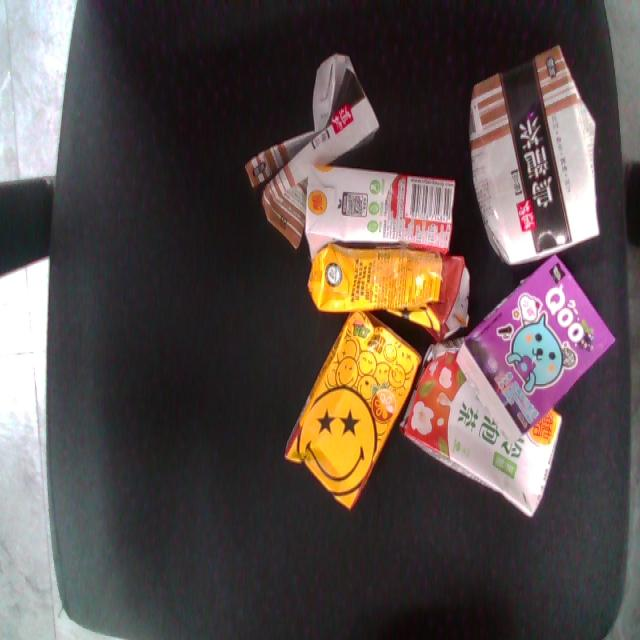juicebox: (206, 25, 419, 267), (428, 233, 640, 452), (257, 290, 447, 530), (448, 34, 630, 276), (374, 335, 596, 533), (301, 238, 495, 347), (297, 153, 462, 261)
